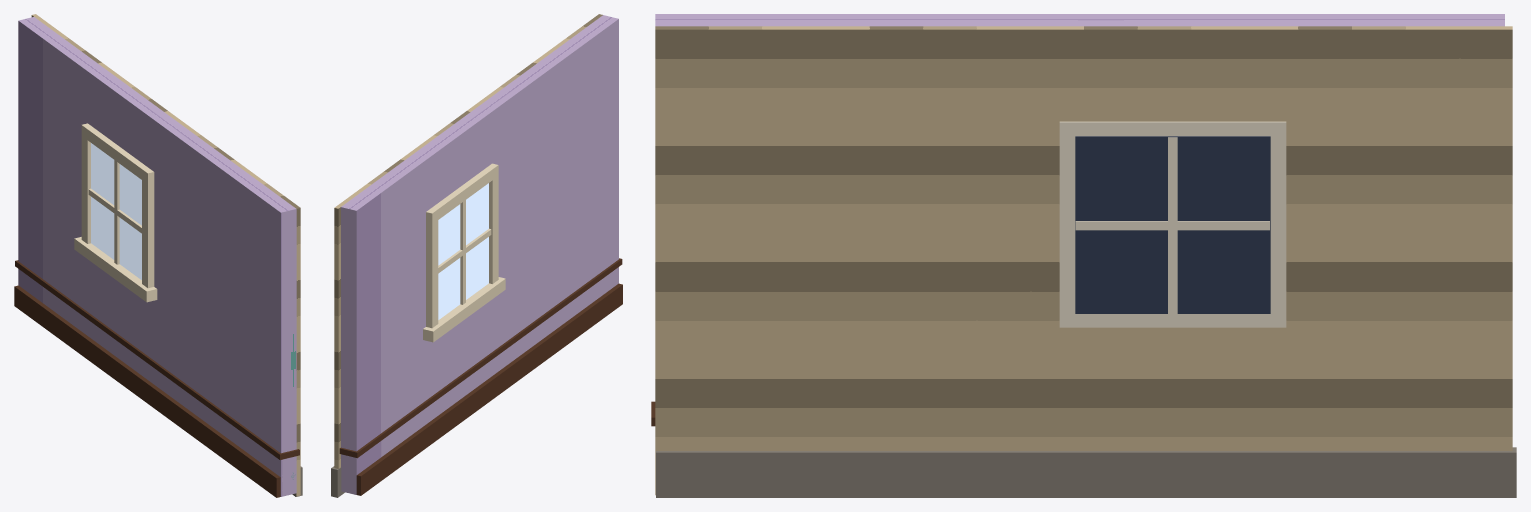
Rendered from wing_east.glb.
3 renders of one model, left to right at view 1: azimuth 30°, elevation 25°; view 2: azimuth 150°, elevation 25°; view 3: azimuth 270°, elevation 25°, orthographic. The views are drawn at different scales.
Parts seen in each view (by area): view 1: Box1, Box2, Box13, Box3, Box17, Box10, Box11, Box9, Box12, Box16, Box14, Box15; view 2: Box1, Box2, Box16, Box13, Box3, Box17, Box10, Box12, Box9, Box11, Box14, Box15 (+1 smaller); view 3: Box3, Box4, Box6, Box5, Box1, Box8, Box7.
Boxes of the visible parts, left/top/right/bottom form: Box1: left=18, top=17, right=296, bottom=496; Box2: left=14, top=285, right=280, bottom=497; Box13: left=91, top=143, right=141, bottom=279; Box3: left=31, top=14, right=300, bottom=496; Box17: left=15, top=260, right=299, bottom=459; Box10: left=74, top=237, right=157, bottom=302; Box11: left=142, top=180, right=154, bottom=288; Box9: left=81, top=123, right=154, bottom=184; Box12: left=81, top=136, right=90, bottom=243; Box16: left=18, top=271, right=296, bottom=496; Box14: left=114, top=160, right=119, bottom=264; Box15: left=88, top=188, right=141, bottom=233; Box1: left=341, top=15, right=618, bottom=494; Box2: left=356, top=283, right=622, bottom=495; Box16: left=341, top=267, right=618, bottom=494; Box13: left=438, top=183, right=488, bottom=319; Box3: left=334, top=14, right=602, bottom=468; Box17: left=339, top=258, right=622, bottom=458; Box10: left=423, top=277, right=505, bottom=342; Box12: left=426, top=220, right=438, bottom=328; Box9: left=426, top=163, right=498, bottom=224; Box11: left=489, top=176, right=498, bottom=283; Box14: left=460, top=200, right=465, bottom=304; Box15: left=438, top=228, right=491, bottom=273; Box3: left=655, top=26, right=1512, bottom=495; Box4: left=656, top=447, right=1516, bottom=497; Box6: left=1075, top=136, right=1270, bottom=313; Box5: left=1059, top=121, right=1286, bottom=327; Box1: left=655, top=14, right=1504, bottom=26; Box8: left=1075, top=221, right=1269, bottom=230; Box7: left=1168, top=137, right=1177, bottom=313.
Bounding box in the file's own units: 0.31 × 2.64 × 4.43.
Materials: 8 (2 with a texture image).
